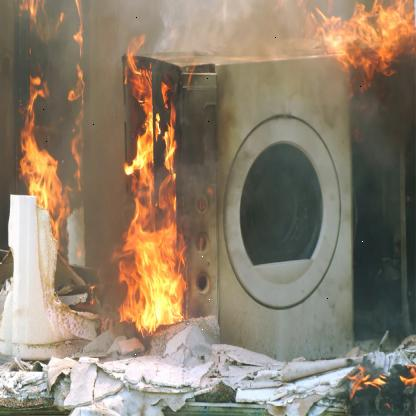fire: (115, 50, 186, 330), (316, 0, 416, 85), (20, 96, 72, 234)
smoke: (42, 0, 416, 341)
